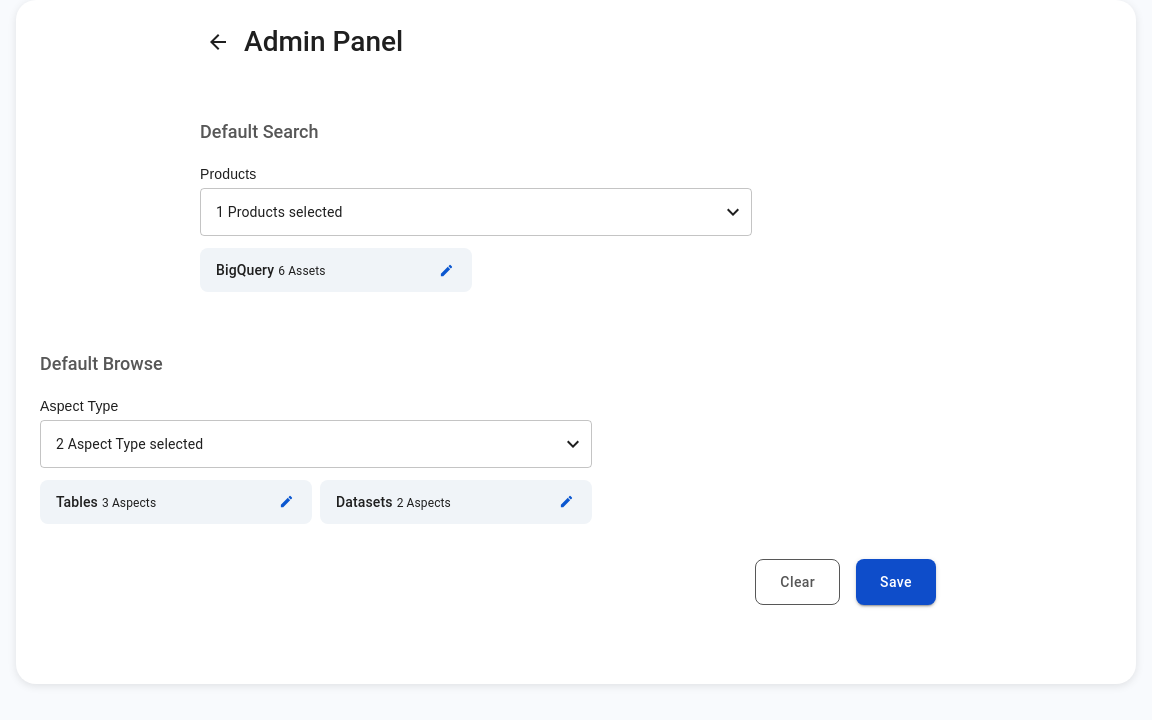
Scenario: AdminPanel › closes confirmation modal when No button is clicked
Click the button "Save". click: (896, 582)
box: [856, 559, 936, 605]
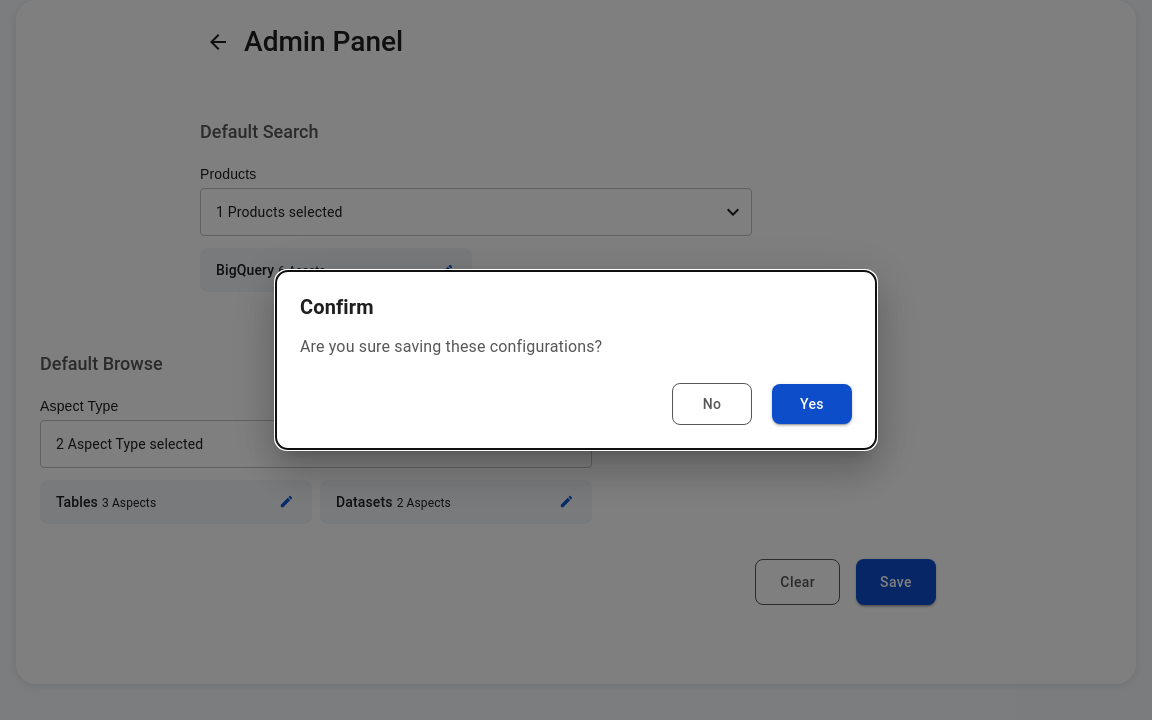
Click the button "No". click: (712, 404)
box: [672, 383, 752, 425]
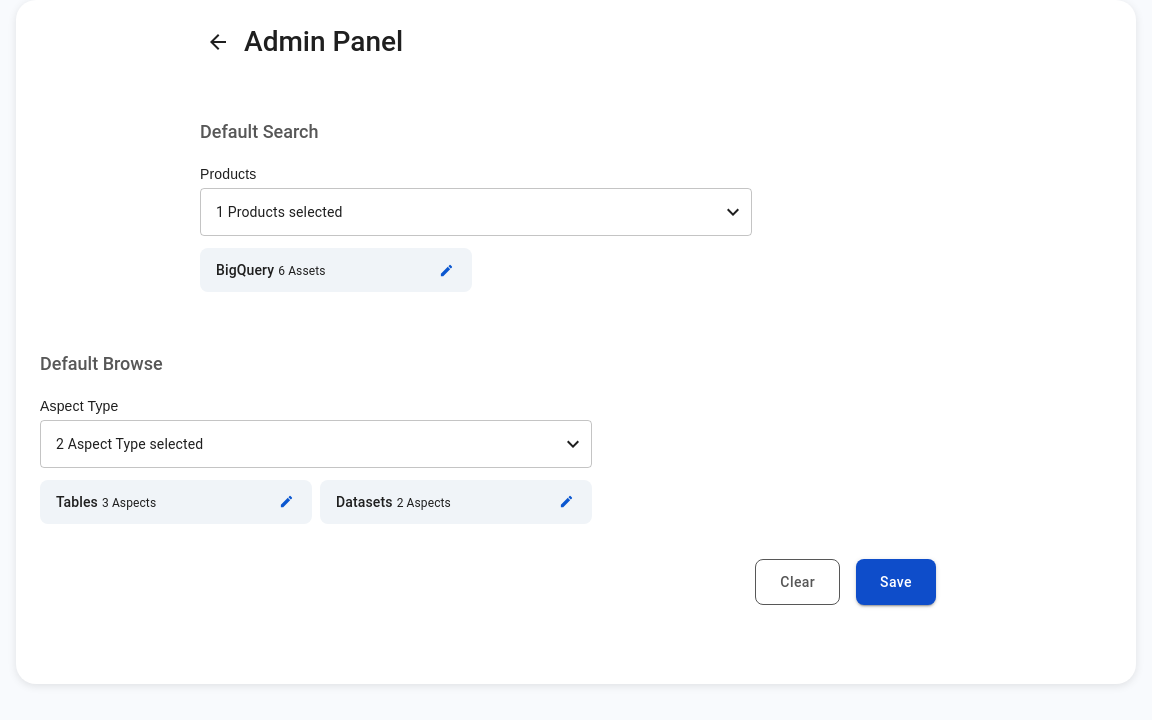
Now the heading "Confirm" is gone
